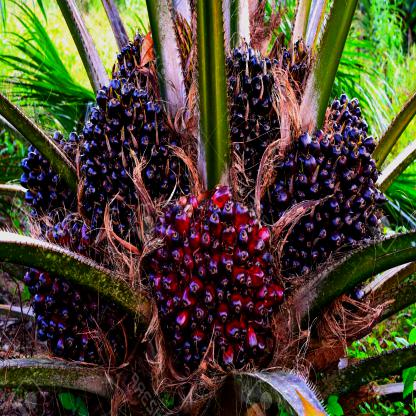1: (146, 198, 275, 376), (19, 222, 123, 362)
palm-oil: (269, 96, 379, 268), (81, 76, 194, 228), (220, 40, 287, 162), (18, 124, 80, 217)
